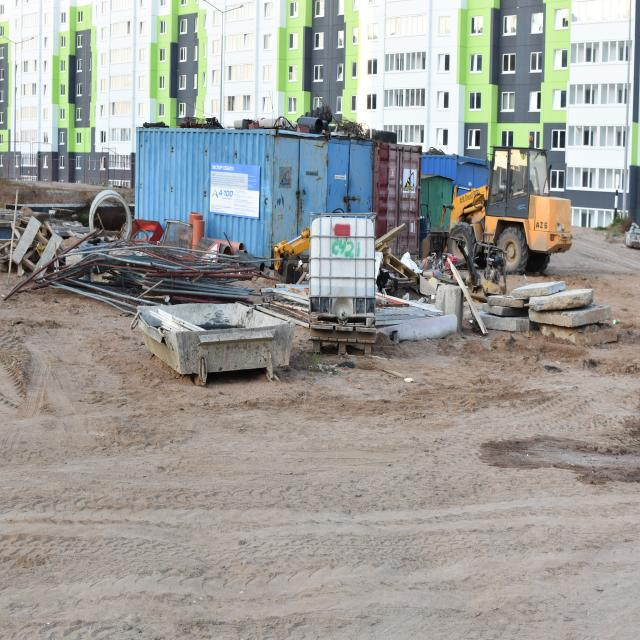entulho: (9, 186, 319, 381), (371, 216, 476, 311), (477, 277, 614, 340)
